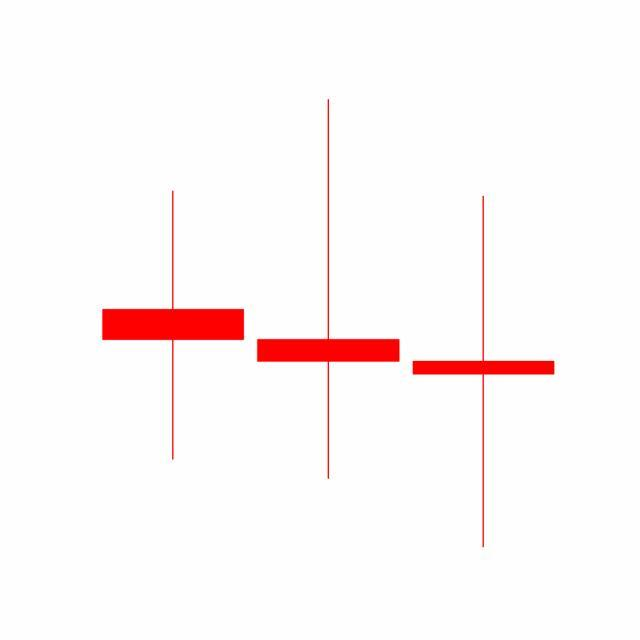Spinning Top: (250, 95, 407, 484)
